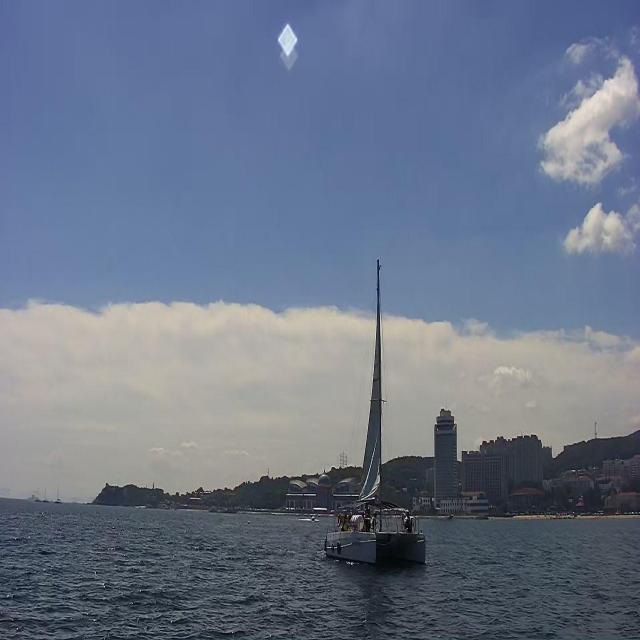CIV_Ship: (324, 258, 426, 570)
